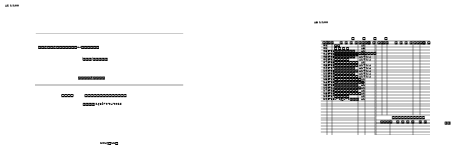room: (330, 0, 392, 138)
staircase: (345, 51, 347, 53)
